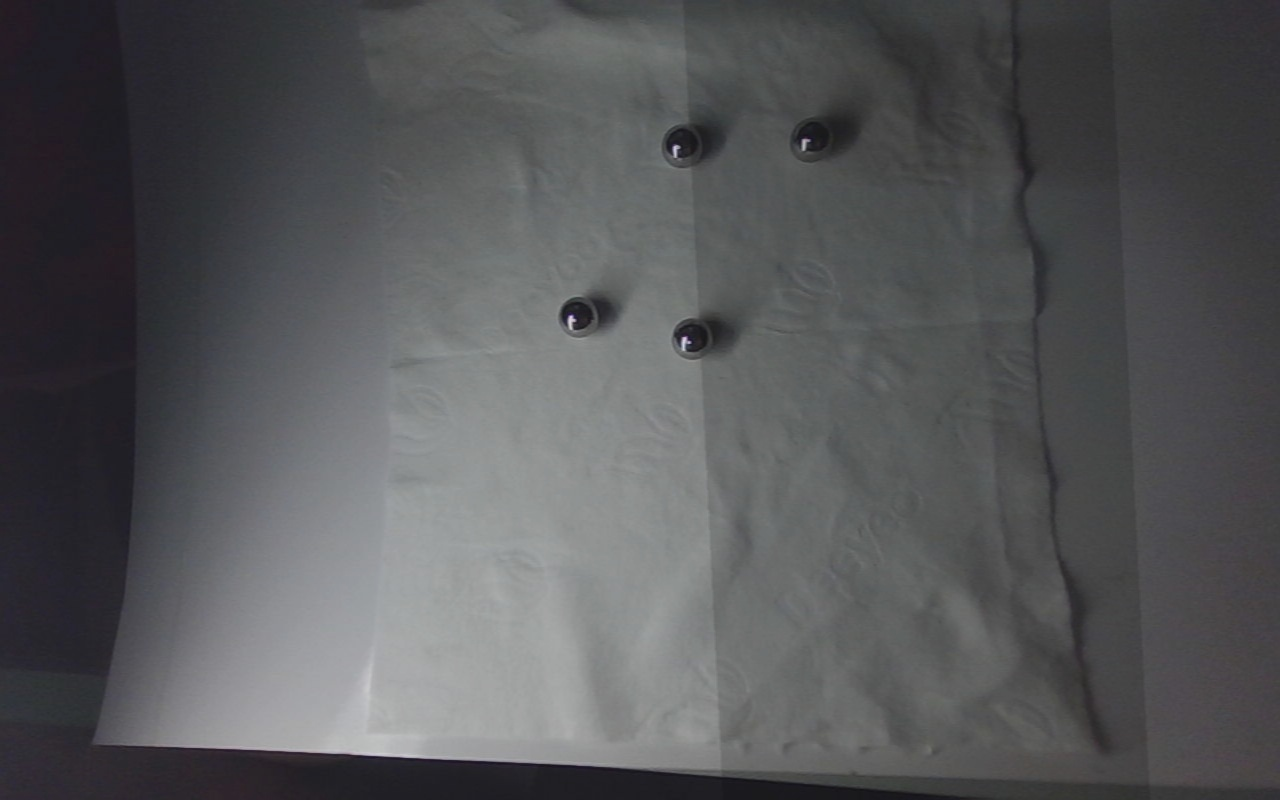ball: (552, 285, 606, 342), (789, 112, 841, 168), (668, 310, 718, 367), (658, 119, 709, 171)
